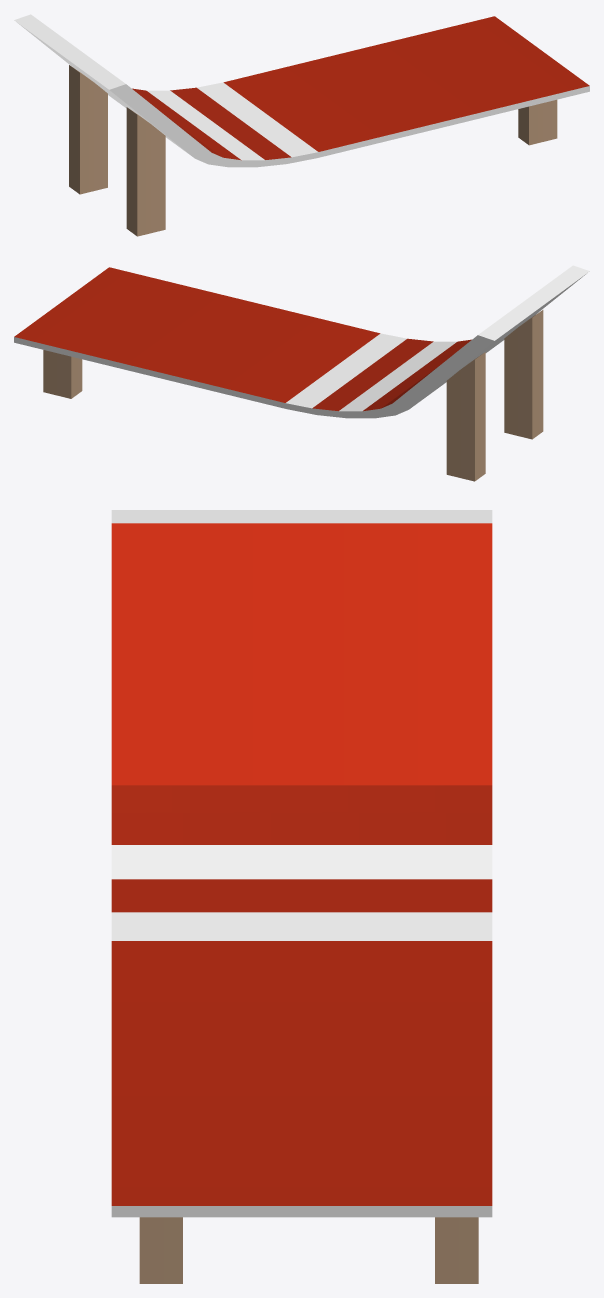
Rendered from beachchair.glb.
3 views of the same model, one above another, from view 1: azimuth 30°, elevation 25°; view 2: azimuth 150°, elevation 25°; view 3: azimuth 270°, elevation 25° (orthographic). The views are drawn at different scales.
Parts seen in each view (by area): view 1: Plane, Plane.001; view 2: Plane, Plane.001; view 3: Plane, Plane.001.
Boxes of the visible parts, bbox=[...] form: Plane: bbox=[14, 14, 589, 167]; Plane.001: bbox=[69, 65, 557, 236]; Plane: bbox=[14, 265, 589, 418]; Plane.001: bbox=[43, 310, 543, 481]; Plane: bbox=[111, 510, 492, 1217]; Plane.001: bbox=[139, 1217, 478, 1283].
Bounding box in the file's own units: 8.75 × 2.9 × 3.
Materials: 2 (2 with a texture image).
